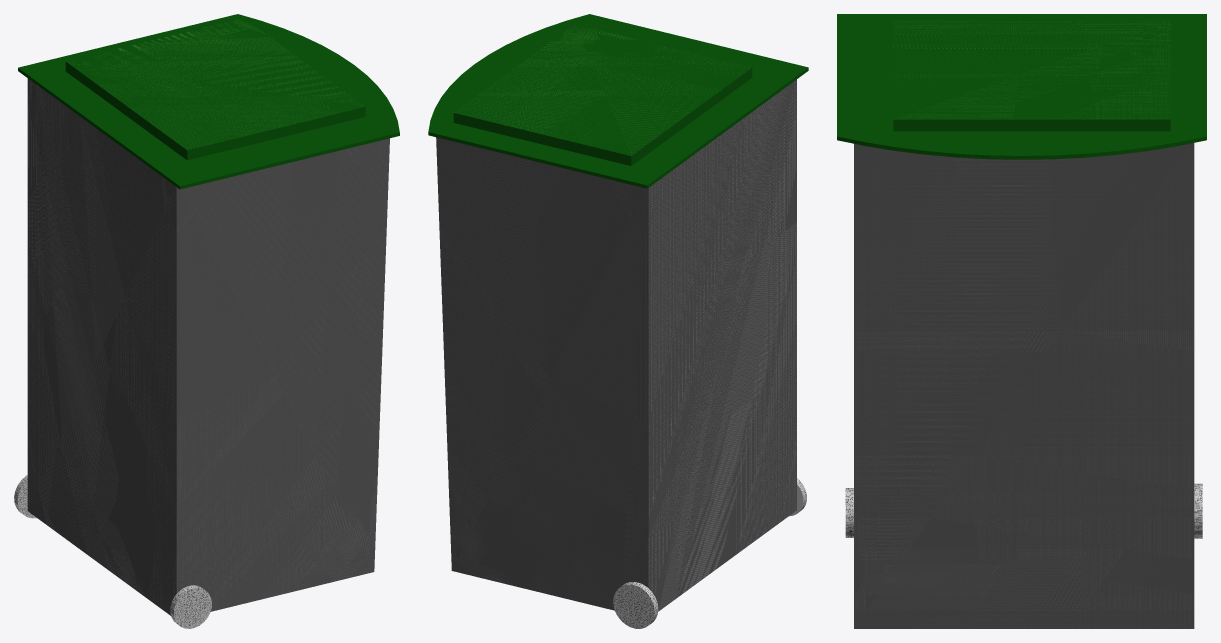
The picture shows the model from 3 angles, left to right: view 1: azimuth 30°, elevation 25°; view 2: azimuth 150°, elevation 25°; view 3: azimuth 270°, elevation 25°; orthographic projection. The views are drawn at different scales.
Visible parts, largest first — view 1: mesh1.001_mesh1-geometry, mesh2.001_mesh2-geometry; view 2: mesh1.001_mesh1-geometry, mesh3.001_mesh3-geometry; view 3: mesh1.001_mesh1-geometry.
Boxes of the visible parts, <box> form: mesh1.001_mesh1-geometry: <box>18,14,399,615</box>; mesh2.001_mesh2-geometry: <box>170,585,211,628</box>; mesh1.001_mesh1-geometry: <box>428,14,808,611</box>; mesh3.001_mesh3-geometry: <box>613,582,658,628</box>; mesh1.001_mesh1-geometry: <box>837,14,1206,628</box>.
Size of the model in its own units: 0.4471 by 0.754 by 0.4813.
